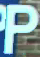Parking: (2, 0, 38, 56)
